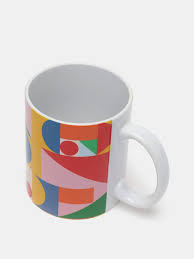mug: (12, 59, 172, 245)
